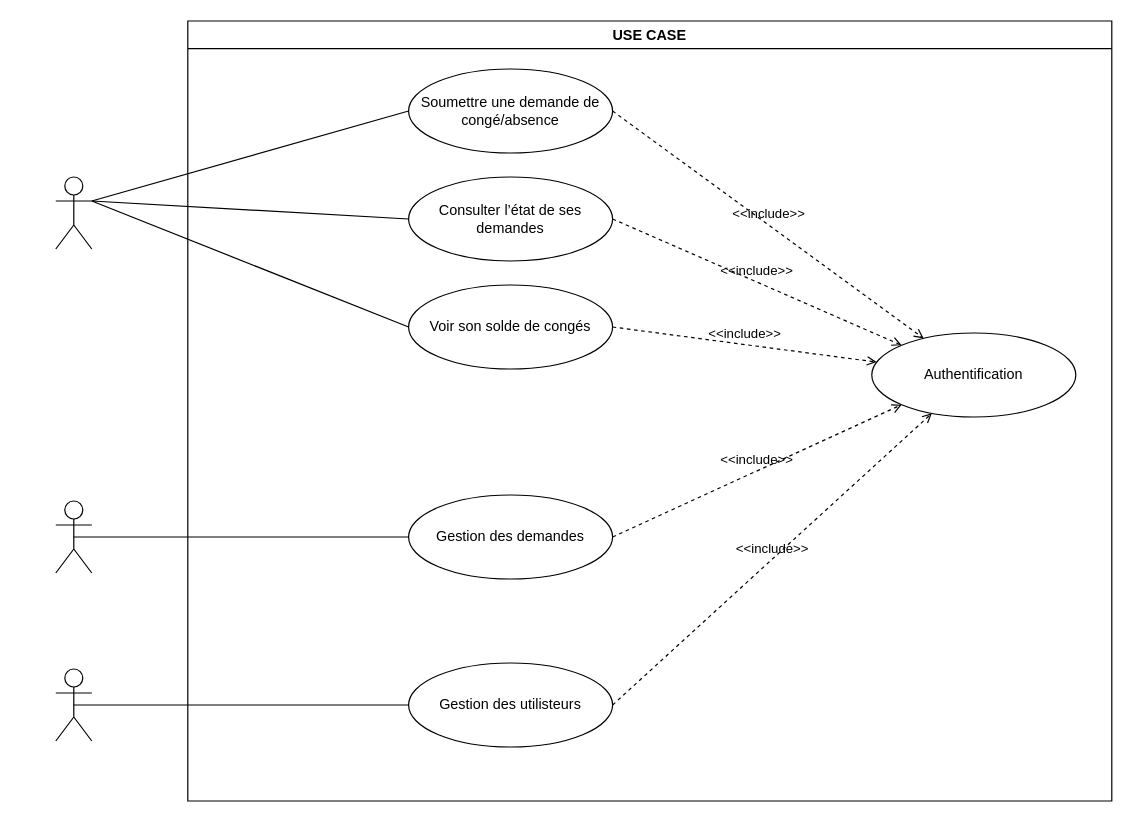
Image size: 1133x822. Some labels were removed from this diagram. The centre of each missing label's shape, as x and y in pixels:
"ADMIN" goes at (x=73, y=704).
"EMPLOYE" goes at (x=73, y=212).
"RESPONSABLE" goes at (x=73, y=536).
